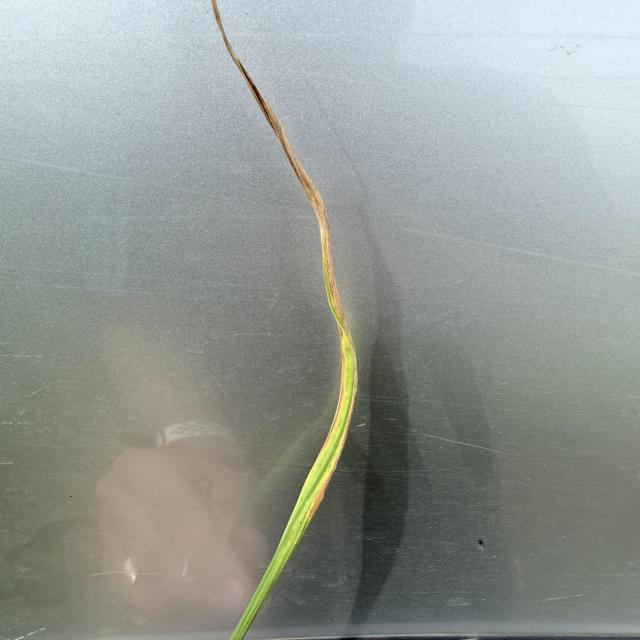Chay bia la: (211, 0, 347, 343)
